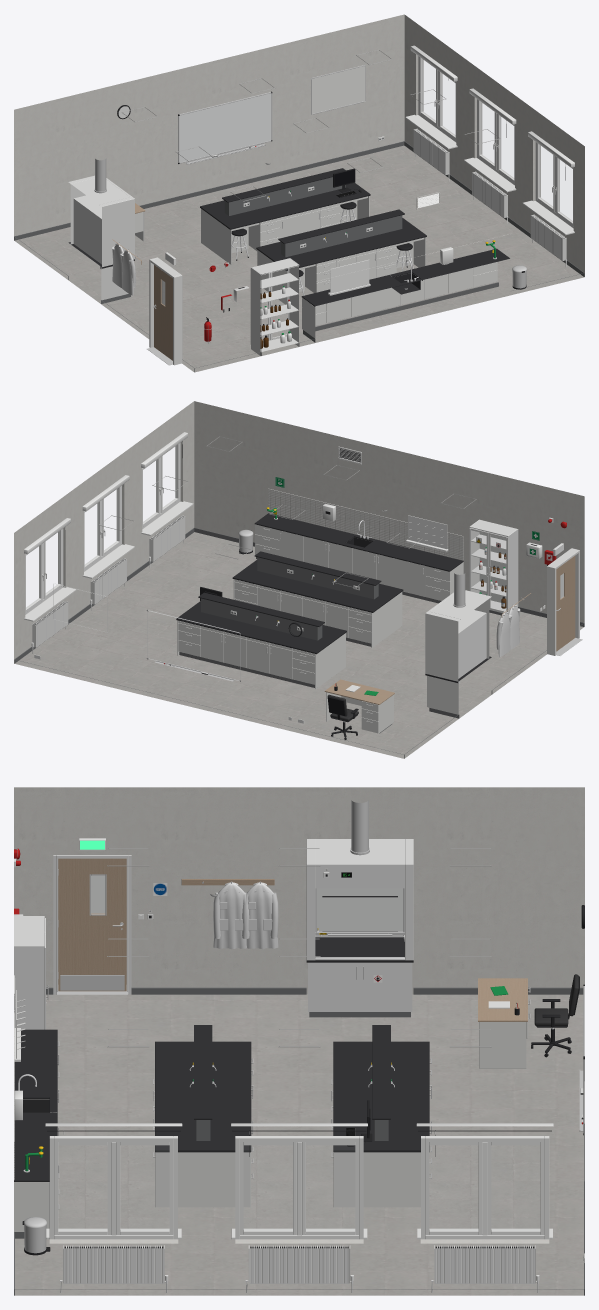
The model's file is room.glb.
3 renders of one model, top to bottom at view 1: azimuth 30°, elevation 25°; view 2: azimuth 150°, elevation 25°; view 3: azimuth 270°, elevation 25°, orthographic. The views are drawn at different scales.
Parts seen in each view (by area): view 1: static_wall_paint, static_floor_vinyl, static_metal_white, static_laminate_white, static_epoxy_black, static_pvc_white, static_laminate_gray, whiteboard_surface, static_steel_brushed, poster_periodic_table, door, static_fabric_white (+2 smaller); view 2: static_wall_paint, static_floor_vinyl, static_laminate_white, static_metal_white, static_epoxy_black, static_pvc_white, static_laminate_gray, static_ceramic_white, static_steel_brushed, door, static_plastic_black, static_fabric_white (+2 smaller); view 3: static_floor_vinyl, static_wall_paint, static_metal_white, static_epoxy_black, static_pvc_white, static_laminate_white, door, static_laminate_gray, static_fabric_white, static_steel_brushed, static_plastic_black, static_wood_ash (+1 smaller).
Boxes of the visible parts, x1,y1,x2,y2 form: static_wall_paint: (14,14,584,276); static_floor_vinyl: (14,145,584,372); static_metal_white: (68,49,566,365); static_laminate_white: (135,196,497,338); static_epoxy_black: (68,168,509,306); static_pvc_white: (165,45,574,343); static_laminate_gray: (14,138,584,372); whiteboard_surface: (179,93,271,162); static_steel_brushed: (94,65,556,365); poster_periodic_table: (312,66,364,113); door: (153,265,172,360); static_fabric_white: (112,243,135,295); static_wall_paint: (14,401,584,663); static_floor_vinyl: (14,532,583,758); static_laminate_white: (177,524,463,733); static_metal_white: (32,436,579,714); static_epoxy_black: (176,513,491,682); static_pvc_white: (24,432,563,723); static_laminate_gray: (14,527,584,758); static_ceramic_white: (268,488,463,560); static_steel_brushed: (42,487,582,722); door: (556,556,575,651); static_plastic_black: (33,444,547,739); static_fabric_white: (496,604,520,657); static_floor_vinyl: (14,994,583,1295); static_wall_paint: (14,787,584,1243); static_metal_white: (14,839,583,1292); static_epoxy_black: (14,937,429,1181); static_pvc_white: (14,838,584,1280); static_laminate_white: (14,1022,527,1231); door: (58,858,126,991); static_laminate_gray: (14,987,584,1295); static_fabric_white: (213,882,278,949); static_steel_brushed: (23,800,584,1253); static_plastic_black: (22,872,584,1255); static_wood_ash: (181,879,527,1021).
Size of the model in its own units: 10.5 by 3.2 by 8.
32 materials, 9 textured.
